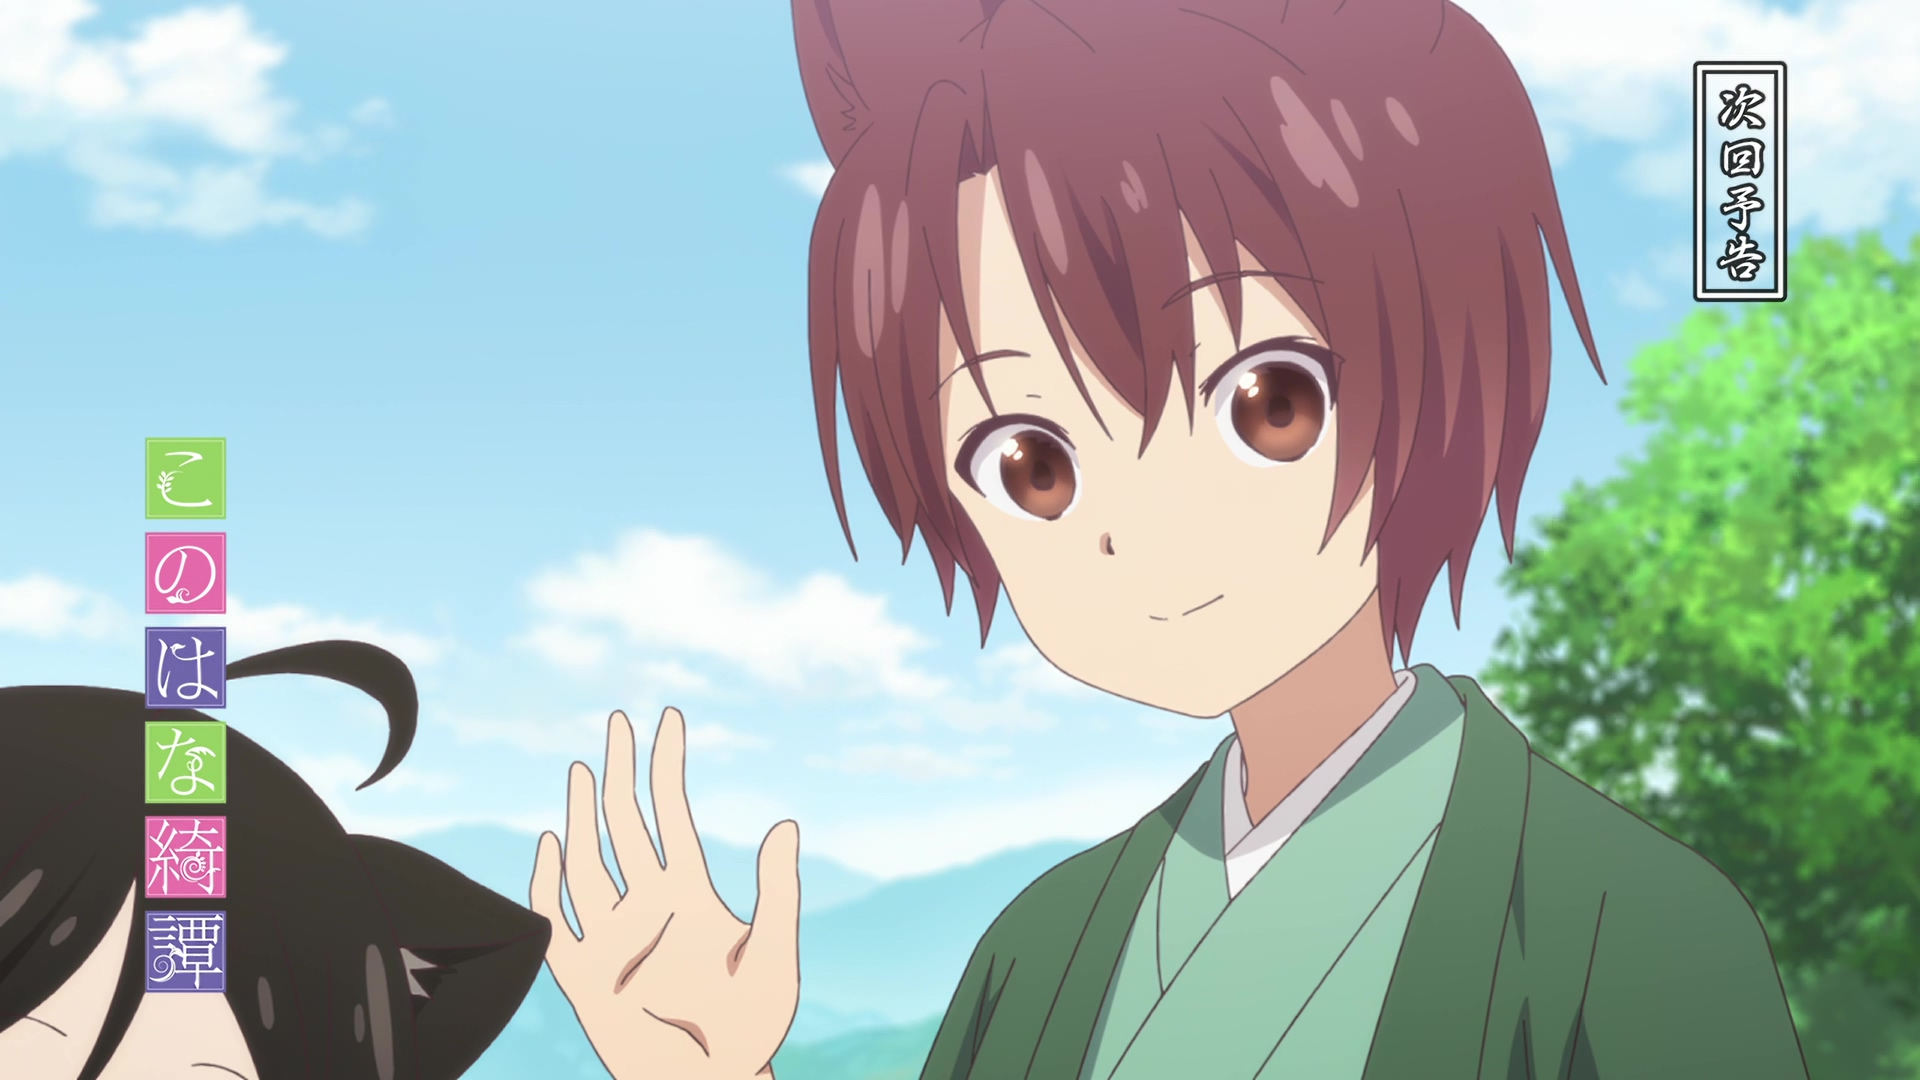其他: (1, 642, 551, 1080)
枣: (526, 1, 1804, 1080)
